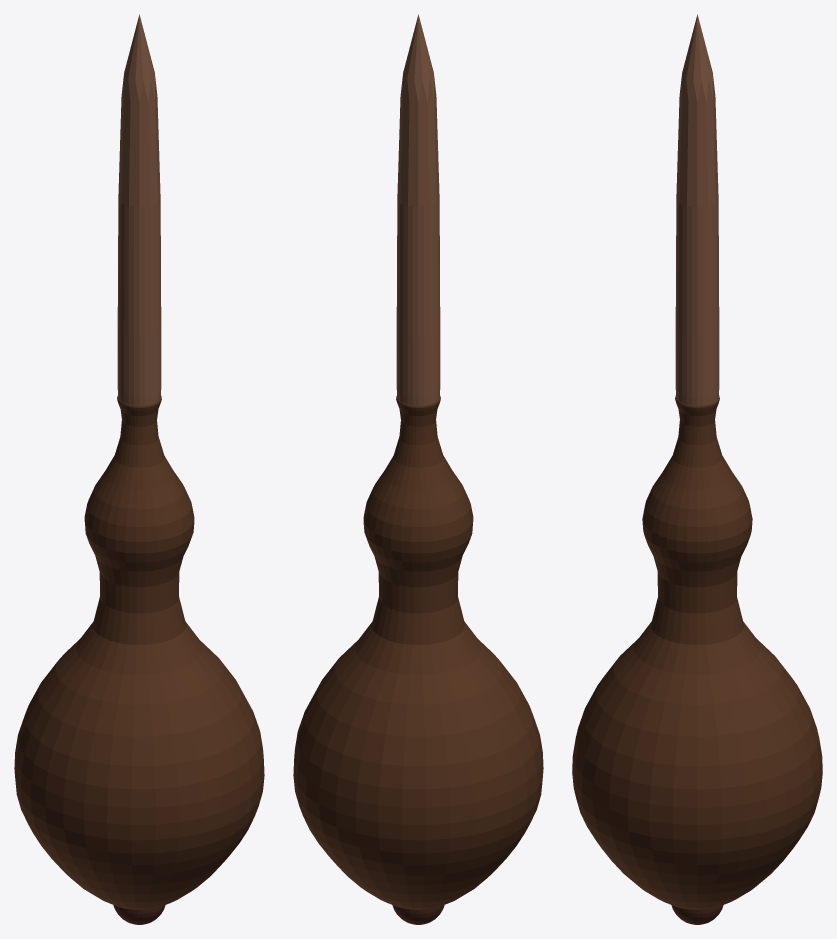
File: Wand 603.glb
3 renders of one model, left to right at view 1: azimuth 30°, elevation 25°; view 2: azimuth 150°, elevation 25°; view 3: azimuth 270°, elevation 25°, orthographic.
Visible parts, largest first — view 1: GeneratedWand; view 2: GeneratedWand; view 3: GeneratedWand.
Boxes of the visible parts, x1=… form: GeneratedWand: x1=14, y1=14, x2=264, y2=924; GeneratedWand: x1=293, y1=14, x2=543, y2=924; GeneratedWand: x1=572, y1=14, x2=822, y2=924.
Bounding box in the file's own units: 0.123 × 0.4917 × 0.123.
